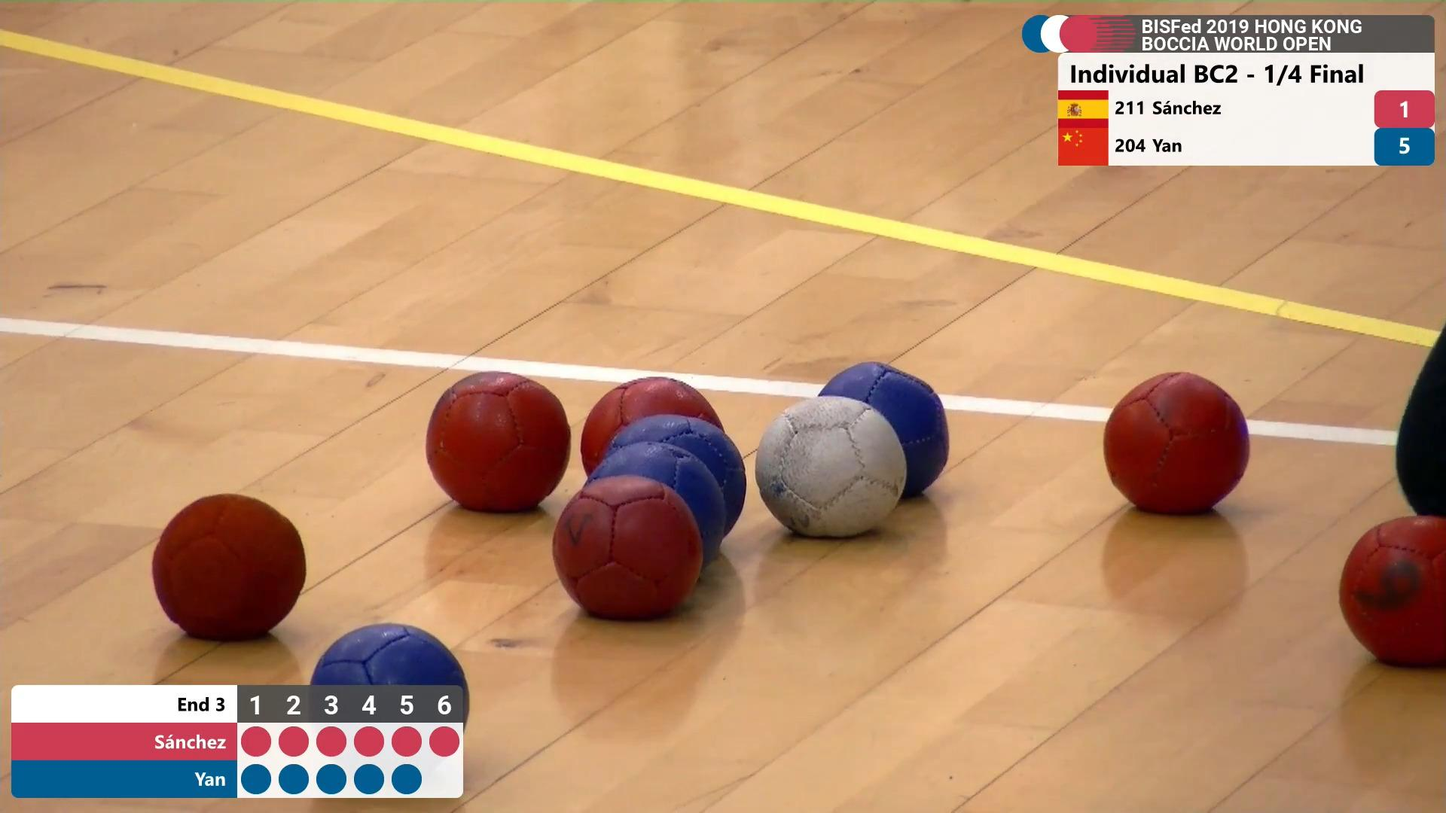blue_ball: (834, 361, 953, 482), (599, 446, 734, 546), (314, 625, 461, 685)
red_ball: (149, 493, 303, 640), (1103, 369, 1246, 512), (429, 369, 570, 512), (557, 480, 702, 617), (1342, 523, 1446, 664), (584, 378, 714, 425)
white_ball: (755, 403, 908, 533)
